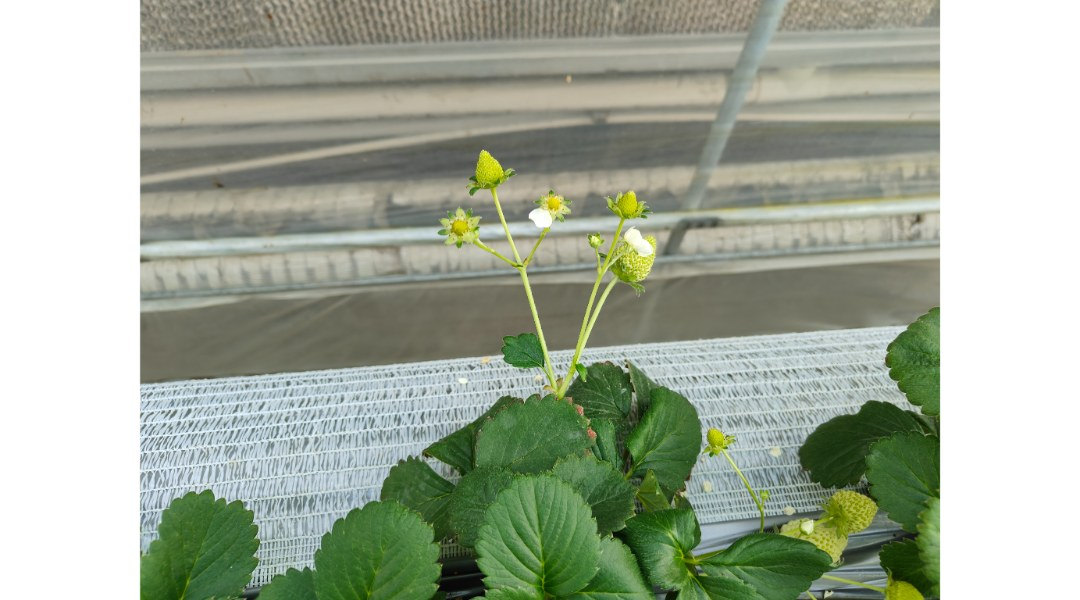berry: (607, 230, 660, 290), (463, 137, 515, 194), (600, 184, 656, 218), (433, 208, 481, 247), (697, 418, 735, 461), (534, 185, 571, 225), (588, 233, 607, 248)
flower: (622, 225, 651, 261)
strain: (515, 273, 556, 386), (721, 447, 766, 537), (488, 188, 523, 259)
